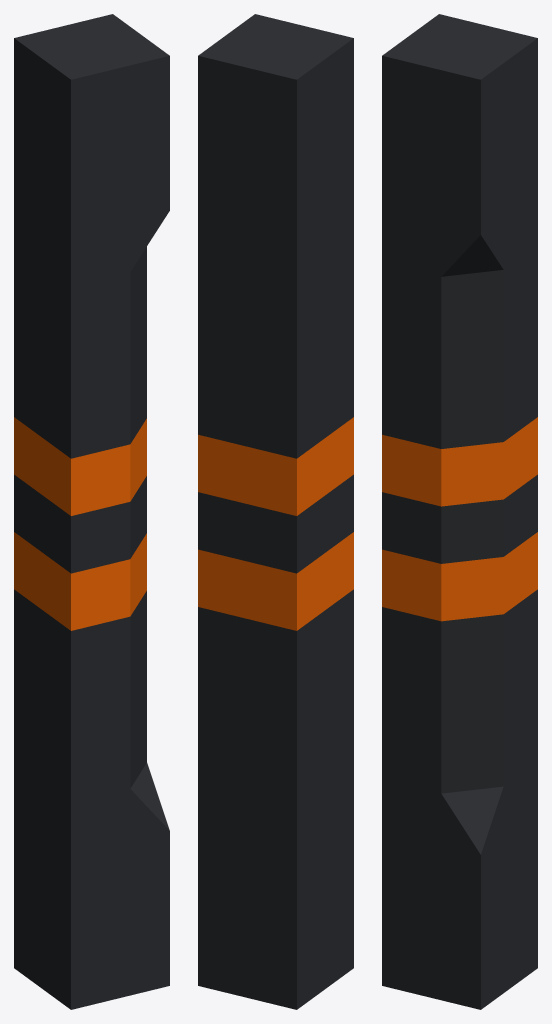
Rendered from Wall_2x2_Corner_InsidePiece.fbx.
The picture shows the model from 3 angles, left to right: view 1: azimuth 30°, elevation 25°; view 2: azimuth 150°, elevation 25°; view 3: azimuth 330°, elevation 25°; orthographic projection.
Parts seen in each view (by area): view 1: Wall_2x2_Corner_InsidePiece; view 2: Wall_2x2_Corner_InsidePiece; view 3: Wall_2x2_Corner_InsidePiece.
Boxes of the visible parts, left/top/right/bottom form: Wall_2x2_Corner_InsidePiece: left=14, top=14, right=169, bottom=1009; Wall_2x2_Corner_InsidePiece: left=198, top=14, right=353, bottom=1009; Wall_2x2_Corner_InsidePiece: left=382, top=14, right=537, bottom=1009.
Size of the model in its own units: 25 by 225 by 25.
